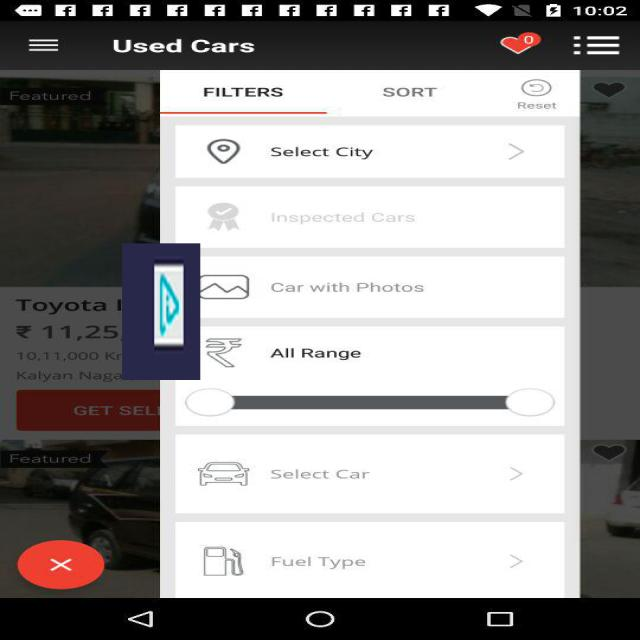sneaking: (122, 243, 200, 380)
